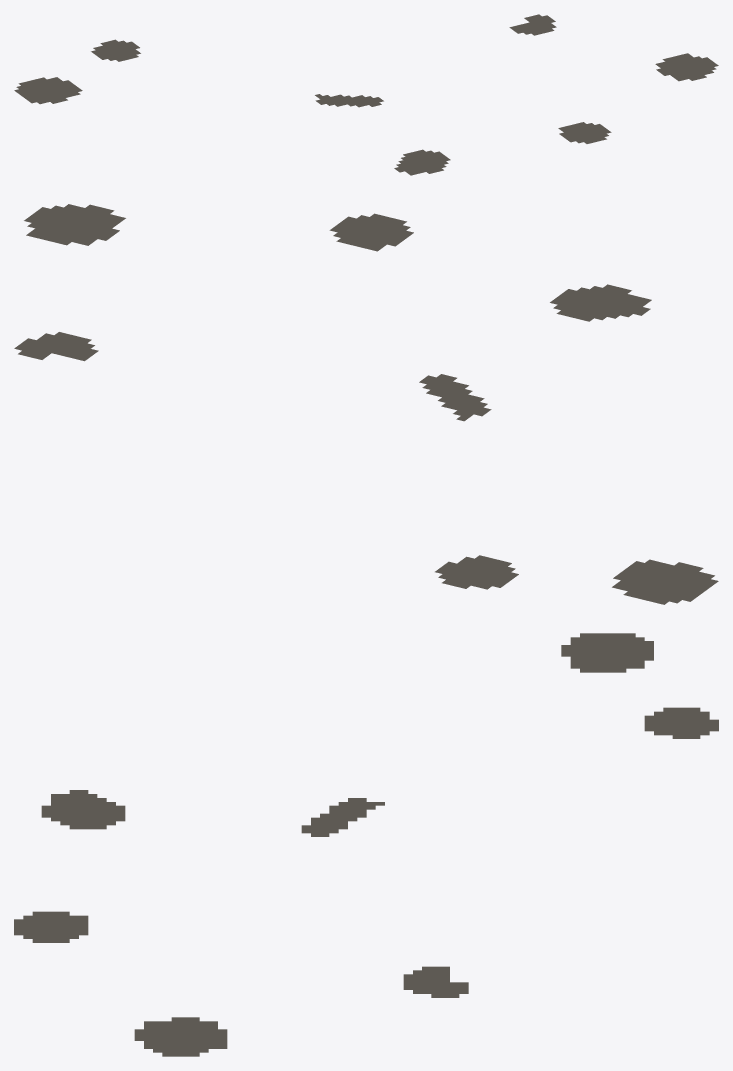
File: Map-M3-NoBuildArea.fbx
3 renders of one model, top to bottom at view 1: azimuth 30°, elevation 25°; view 2: azimuth 150°, elevation 25°; view 3: azimuth 270°, elevation 25°, orthographic. The views are drawn at different scales.
Parts seen in each view (by area): view 1: Map-M3-NoBuildArea; view 2: Map-M3-NoBuildArea; view 3: Map-M3-NoBuildArea.
Part boxes in pixels (x1,y1,x2,y2): Map-M3-NoBuildArea: (14, 14, 718, 175); Map-M3-NoBuildArea: (14, 204, 718, 604); Map-M3-NoBuildArea: (14, 633, 718, 1056).
Size of the model in its own units: 108 by 0 by 76.
